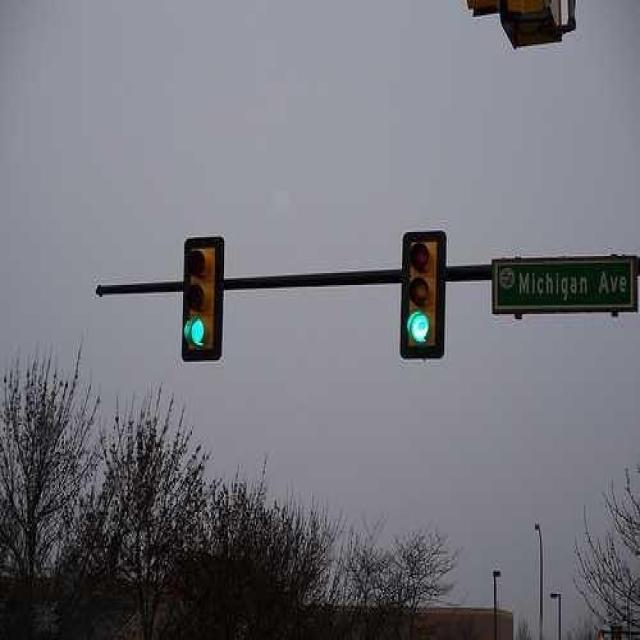Traffic Light -Green-: (179, 236, 220, 360), (400, 232, 438, 357)
